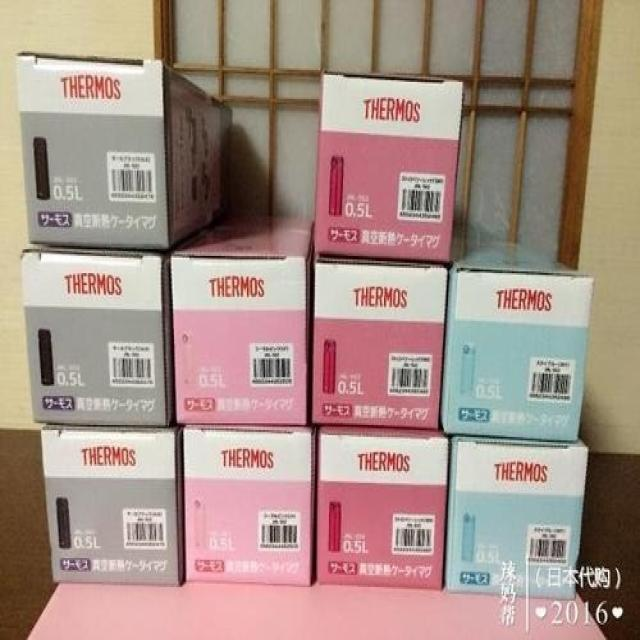box: (15, 55, 233, 251), (439, 236, 594, 442), (168, 215, 315, 427), (314, 70, 463, 263), (20, 244, 174, 427), (42, 415, 186, 585), (445, 435, 589, 601), (312, 256, 448, 430), (316, 427, 449, 592), (182, 425, 317, 585)
